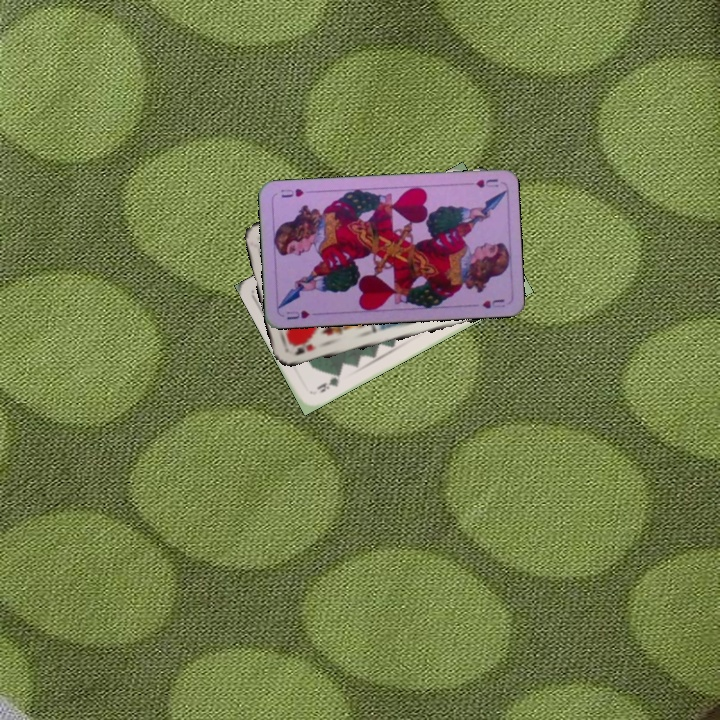G9: (312, 369, 343, 395)
HK: (291, 340, 319, 358)
HU: (282, 306, 312, 322), (472, 175, 501, 190)
